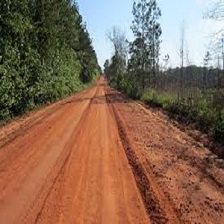clay_soil: (8, 73, 202, 211)
